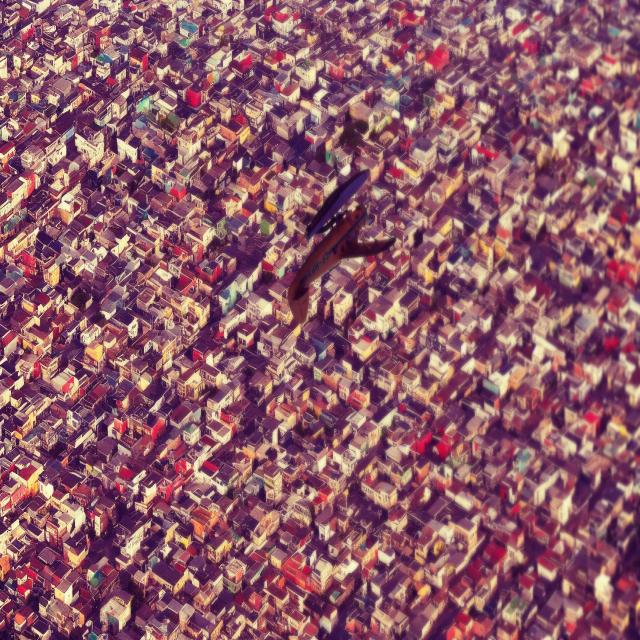airplane: (285, 168, 396, 328)
